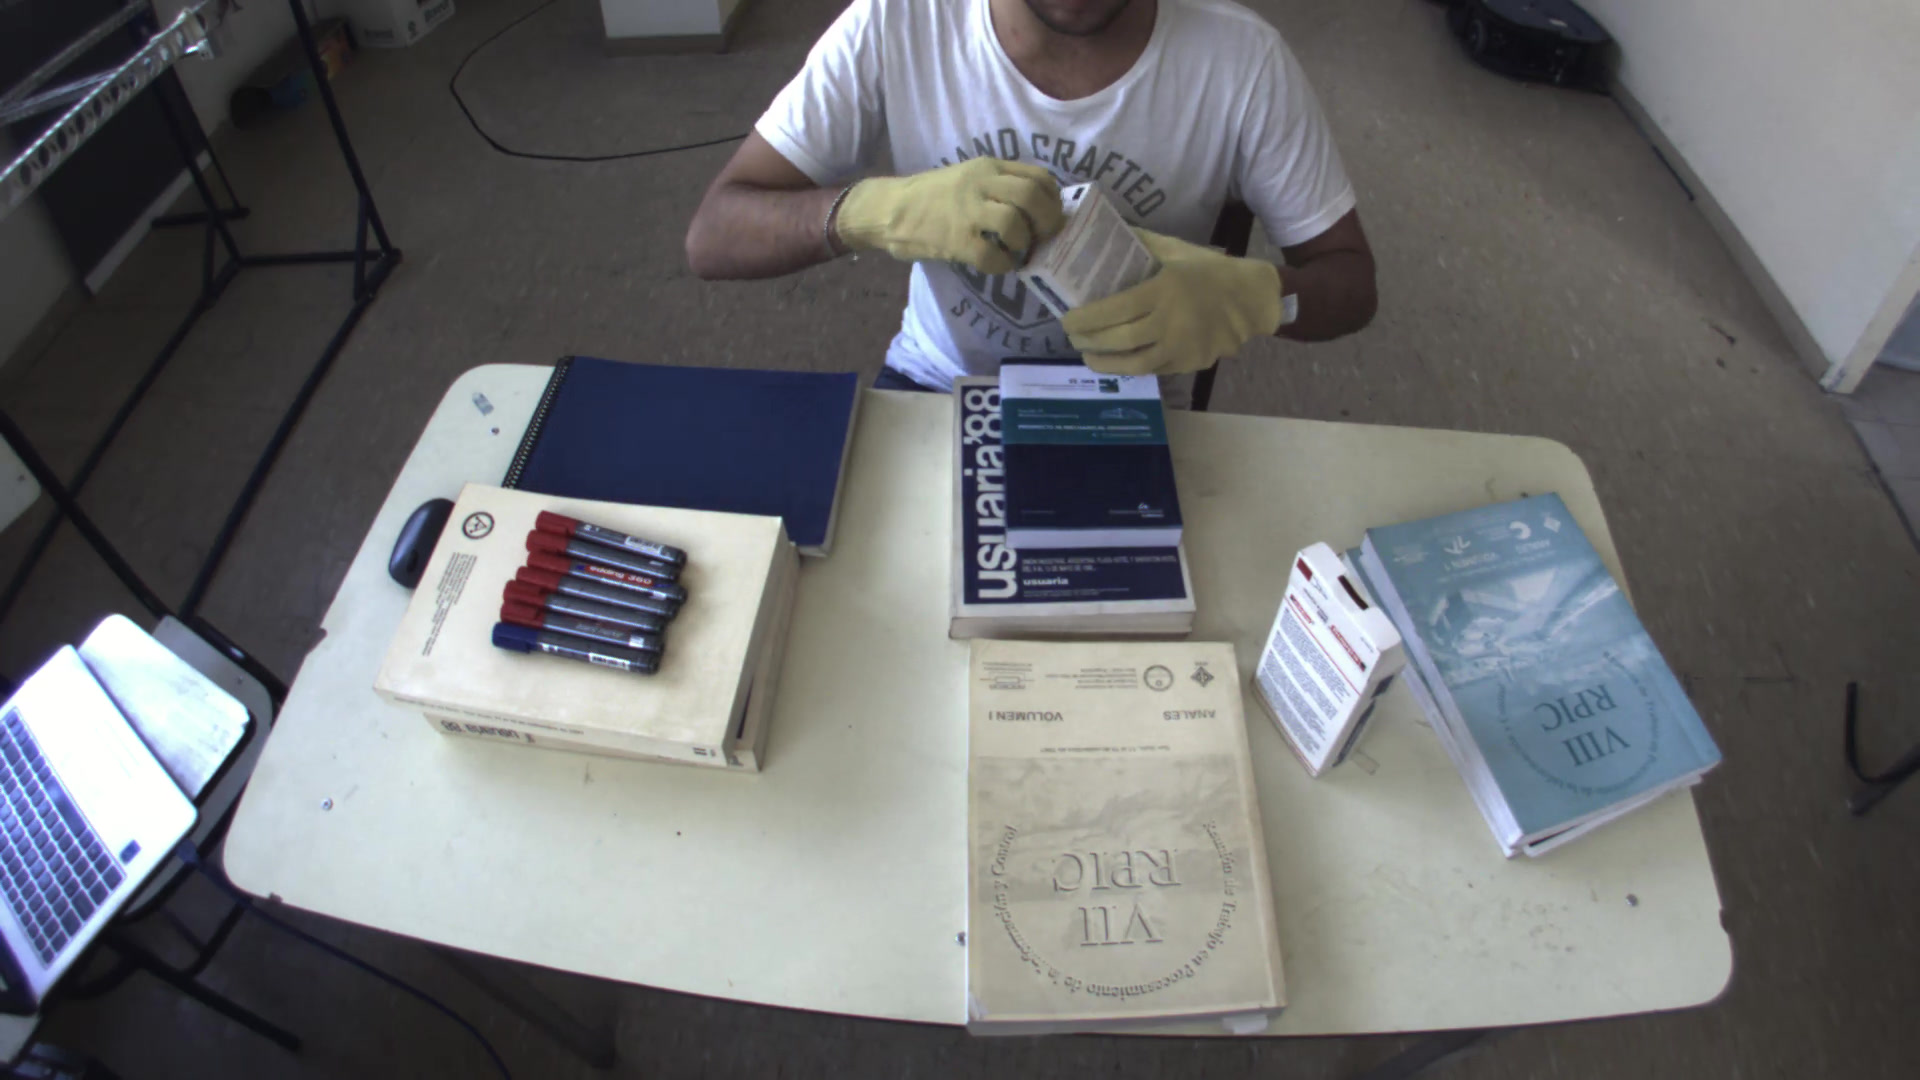hand: (1048, 215, 1303, 380), (823, 141, 1077, 272)
